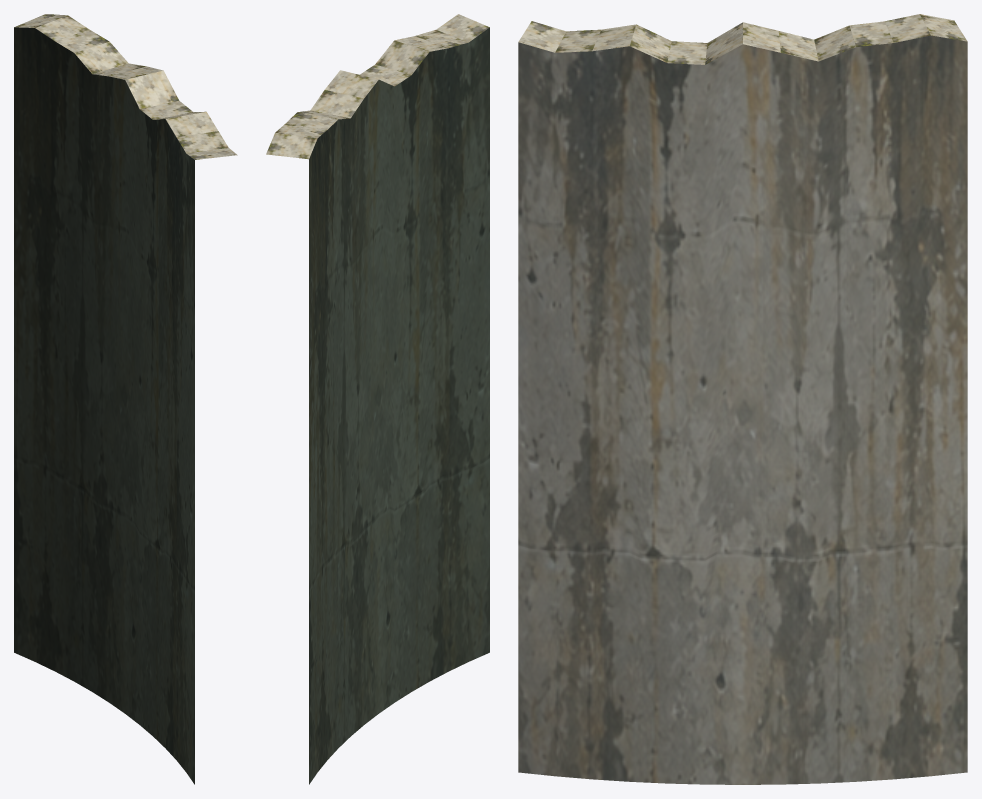
The model's file is Tank_Arc_C.glb.
3 views of the same model, side by side, from view 1: azimuth 30°, elevation 25°; view 2: azimuth 150°, elevation 25°; view 3: azimuth 270°, elevation 25° (orthographic). The views are drawn at different scales.
Parts seen in each view (by area): view 1: Tank_Arc_C; view 2: Tank_Arc_C; view 3: Tank_Arc_C.
Part boxes in pixels (x1,y1,x2,y2): Tank_Arc_C: [14, 14, 237, 784]; Tank_Arc_C: [266, 14, 489, 784]; Tank_Arc_C: [518, 14, 967, 784].
Size of the model in its own units: 0.6442 by 6.59 by 3.62.
Materials: 1 (1 with a texture image).
